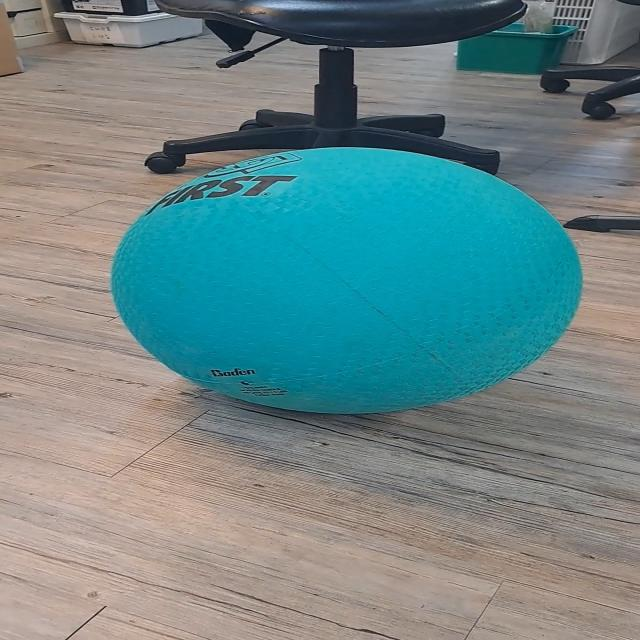ALGAE: (107, 145, 584, 415)
